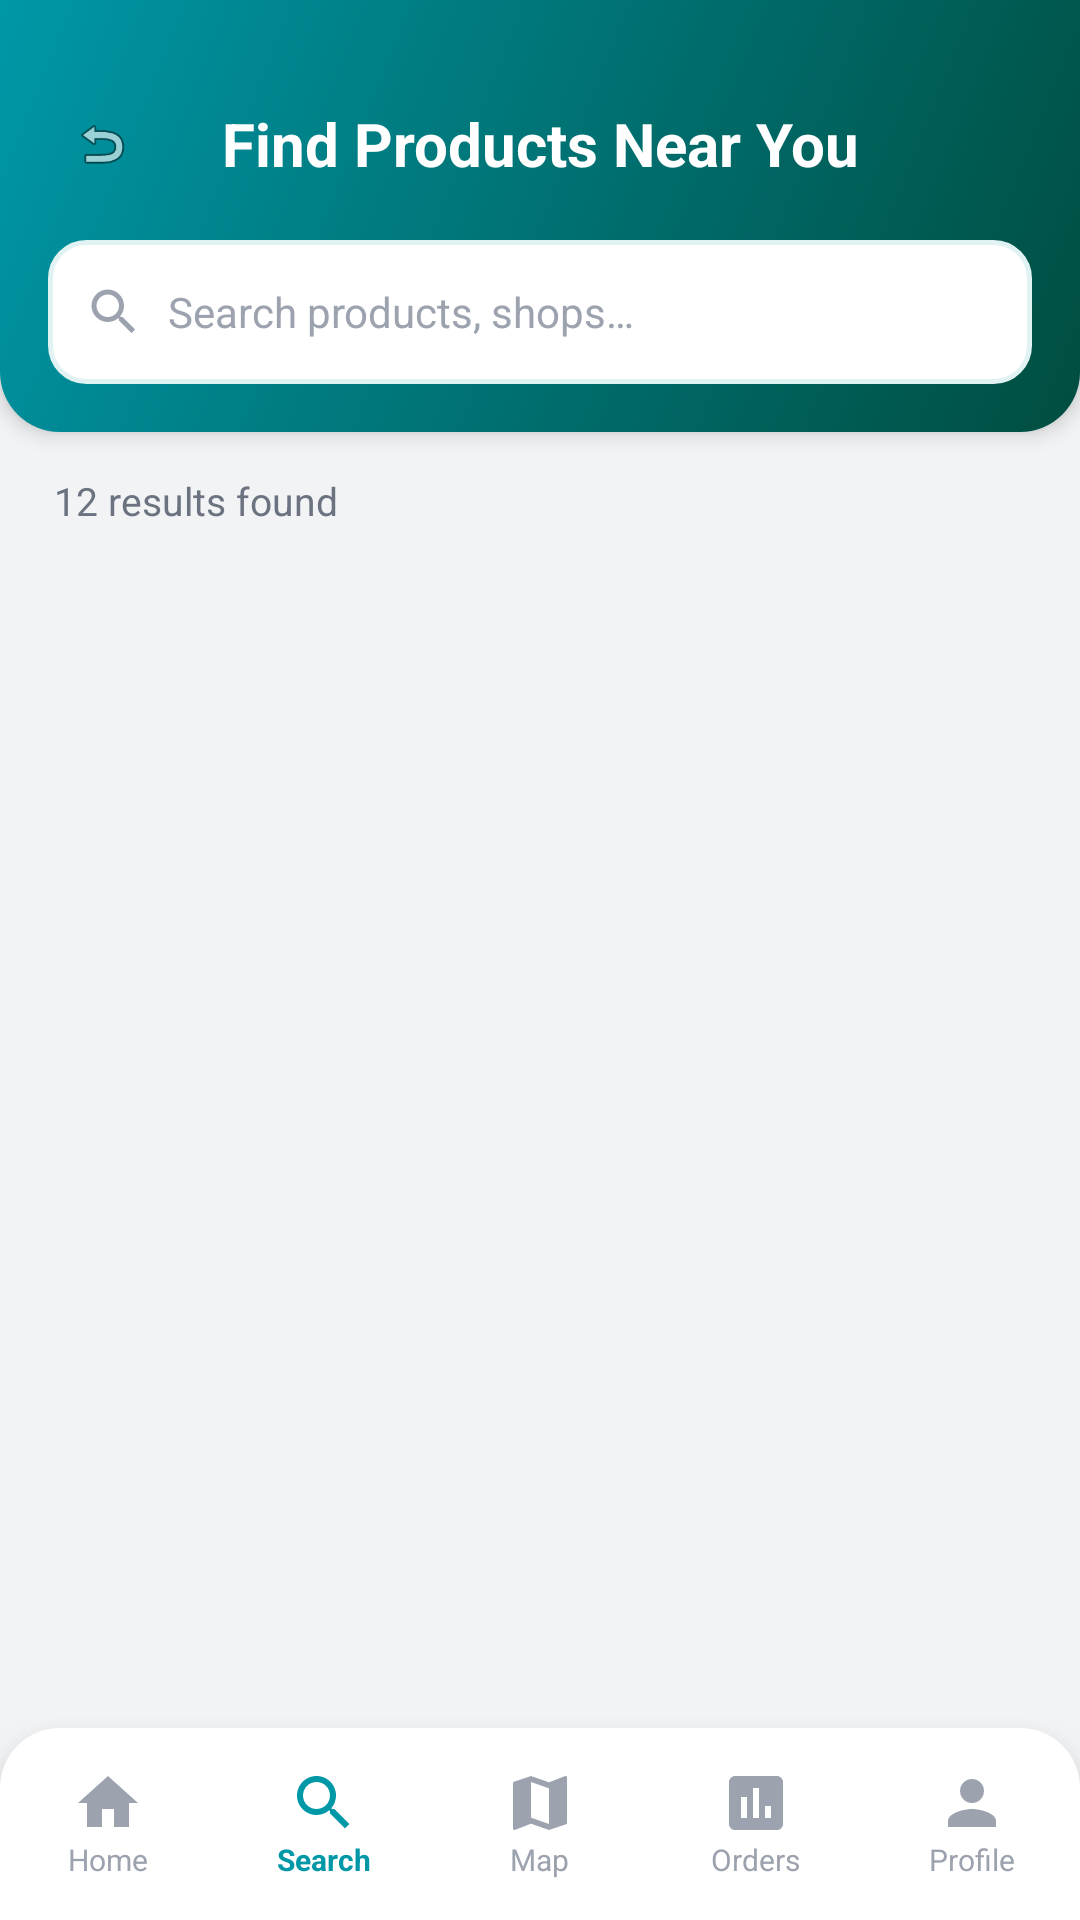

Icon click points for this 1080*1920 phone screenshot, format [x,y]:
Back: [102,144]
